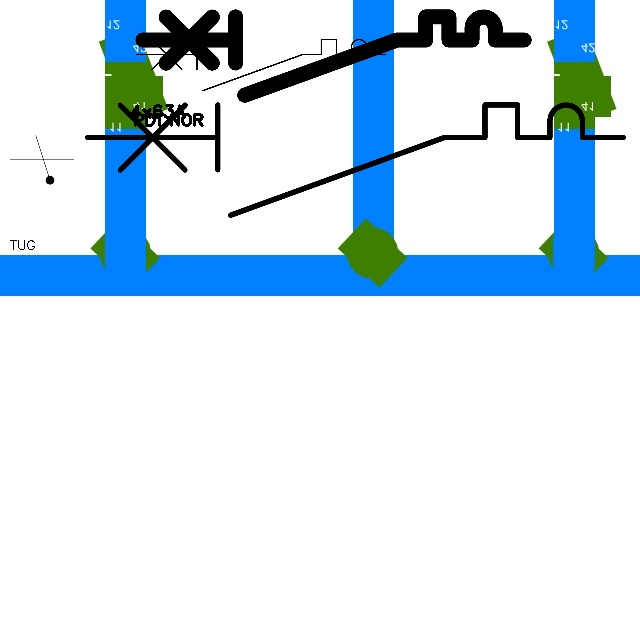interruptor_termomagnetico: (73, 91, 636, 229), (133, 7, 534, 105), (130, 33, 392, 97)
